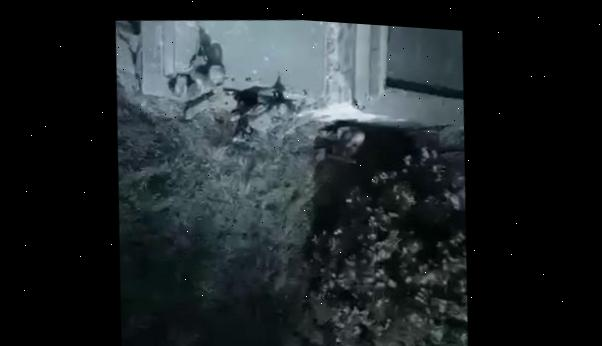person: (165, 43, 229, 120), (230, 82, 292, 145), (317, 121, 367, 161)
